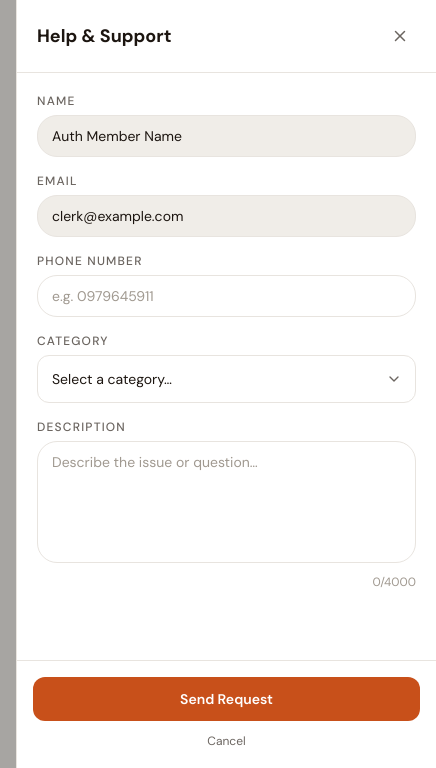
Test: SupportRequestDrawer › transitions to confirmation view on successful POST and shows ticket ID
The image size is (436, 768).
Type "0979645911" into the field with placeholder "e.g. 0979645911". click: [226, 296]
box: [37, 275, 416, 317]
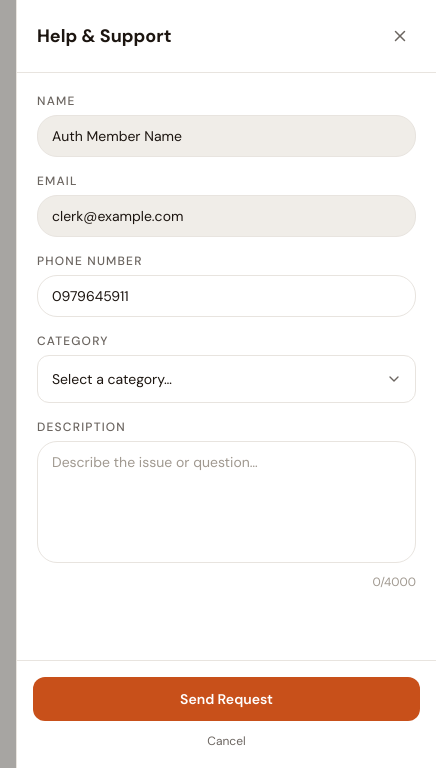
Select "Billing" in the dropdown. click: [226, 379]
box: [37, 355, 416, 403]
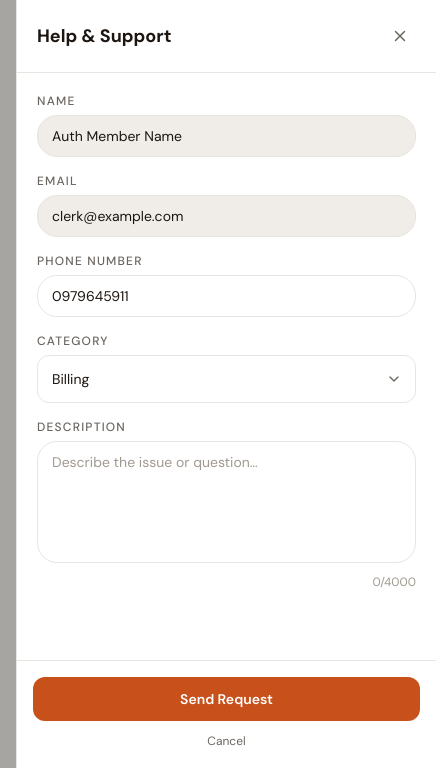
Type "I have a billing question." into the text box with placeholder "Describe the issue or question…". click: [226, 502]
box: [37, 441, 416, 563]
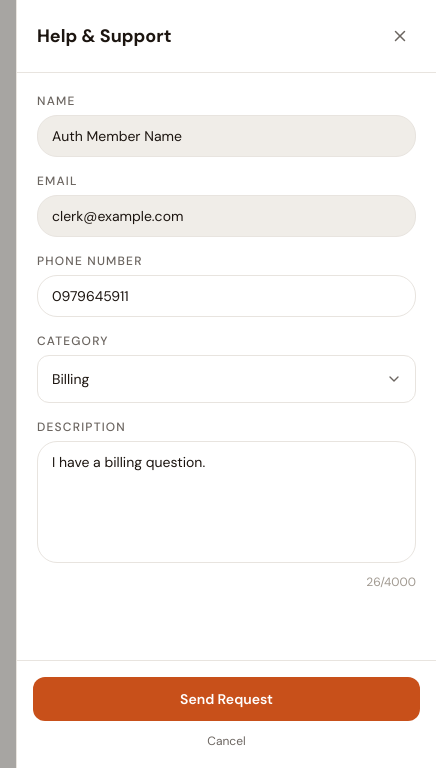
Submit the form with id "support-request-form", box [37, 93, 416, 590]
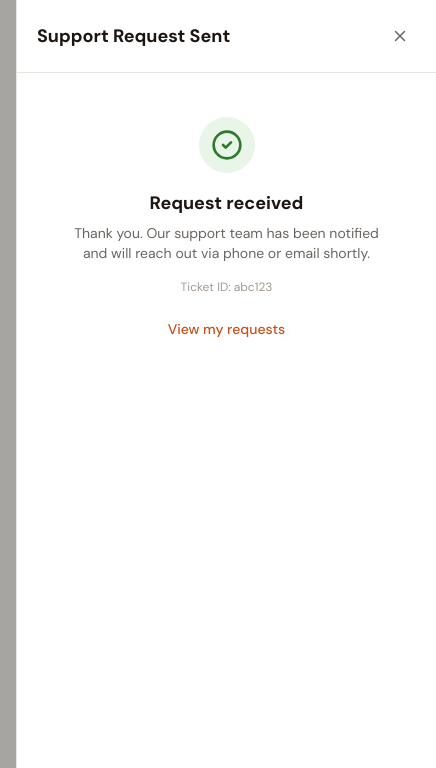
Expected: the heading "Request received" is shown, [150, 189, 303, 217]
Expected: the text "Ticket ID: abc123" is shown, [180, 279, 272, 295]
